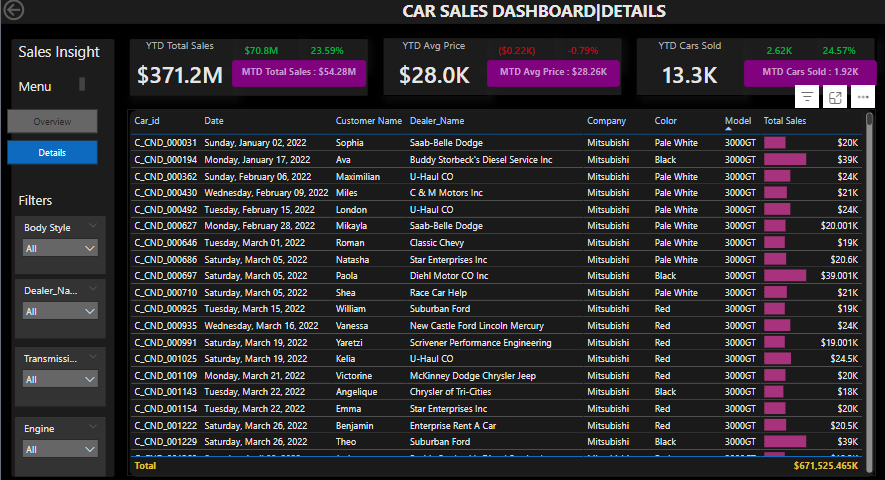

What the dashboard file says about the page in this screenshot:
{"tool":"powerbi","page":{"name":"Details","canvas":[1280,720],"ordinal":1},"visuals":[{"type":"card","title":"YTD Total Sales","fields":{"Values":["car_data.YTD, Total Sales"]},"box":[183.1,60.5,152.9,84],"z":0},{"type":"card","fields":{"Values":["car_data.Sales Difference"]},"box":[324.2,57.1,109.2,45.4],"z":1000},{"type":"card","fields":{"Values":["car_data.YOY Sales Growth"]},"box":[419.9,57.1,109.2,45.4],"z":2000},{"type":"card","fields":{"Values":["car_data.MTD KPI"]},"box":[335.4,92.5,193.7,39],"z":3000},{"type":"card","title":"YTD Avg Price","fields":{"Values":["car_data.YTD Avg Price"]},"box":[551,60.5,152.9,84],"z":4000},{"type":"card","fields":{"Values":["car_data.Avg Price Difference"]},"box":[692.1,57.1,109.2,45.4],"z":5000},{"type":"card","fields":{"Values":["car_data.YOY Avg Price Growth"]},"box":[787.8,57.1,109.2,45.4],"z":6000},{"type":"card","fields":{"Values":["car_data.MTD Avg Price KPI"]},"box":[704.1,92.5,192.3,39],"z":7000},{"type":"card","title":"YTD Cars Sold","fields":{"Values":["car_data.YTD Cars Sold"]},"box":[920.5,60.5,152.9,84],"z":8000},{"type":"card","fields":{"Values":["car_data.Cars Sold Diff"]},"box":[1073.4,57.1,109.2,45.4],"z":9000},{"type":"card","fields":{"Values":["car_data.YOY Cars Sold Growth"]},"box":[1159.1,57.1,109.2,45.4],"z":10000},{"type":"card","fields":{"Values":["car_data.MTD Cars Sold KPI"]},"box":[1075.7,92.5,192.3,39],"z":11000},{"type":"textbox","box":[497.2,0,549.3,42],"z":12000},{"type":"slicer","fields":{"Values":["car_data.Body Style"]},"box":[21.8,317.5,131,84],"z":13000},{"type":"slicer","fields":{"Values":["car_data.Dealer_Name"]},"box":[21.8,409.9,131,85.7],"z":14000},{"type":"slicer","fields":{"Values":["car_data.Transmission"]},"box":[21.8,507.3,131,85.7],"z":15000},{"type":"slicer","fields":{"Values":["car_data.Engine"]},"box":[21.8,608.1,131,85.7],"z":16000},{"type":"textbox","box":[21.8,277.2,95.7,40.3],"z":17000},{"type":"tableEx","fields":{"Values":["car_data.Car_id","car_data.Date","car_data.Customer Name","car_data.Dealer_Name","car_data.Company","car_data.Color","car_data.Model","car_data.Price ($)"]},"box":[183.1,162.9,1083.5,530.8],"z":18000},{"type":"actionButton","box":[0,0,100,40],"z":19000},{"type":"textbox","box":[21.8,60.5,142.8,52.1],"z":20000},{"type":"textbox","box":[21.8,112.5,105.8,31.9],"z":21000},{"type":"pageNavigator","box":[10.1,162.9,131,80.6],"z":22000}]}

Visuals, with their boxes on the page's 1280x720 design canvas (x1, y1, x2, y2). These are canvas units, not pixel positions in the 885x480 screenshot, which may show the page scaled, cropped or inside an application window:
"YTD Total Sales" card: pyautogui.locateOnScreen(183, 60, 336, 144)
card - car_data.Sales Difference: pyautogui.locateOnScreen(324, 57, 433, 102)
card - car_data.YOY Sales Growth: pyautogui.locateOnScreen(420, 57, 529, 102)
card - car_data.MTD KPI: pyautogui.locateOnScreen(335, 92, 529, 132)
"YTD Avg Price" card: pyautogui.locateOnScreen(551, 60, 704, 144)
card - car_data.Avg Price Difference: pyautogui.locateOnScreen(692, 57, 801, 102)
card - car_data.YOY Avg Price Growth: pyautogui.locateOnScreen(788, 57, 897, 102)
card - car_data.MTD Avg Price KPI: pyautogui.locateOnScreen(704, 92, 896, 132)
"YTD Cars Sold" card: pyautogui.locateOnScreen(920, 60, 1073, 144)
card - car_data.Cars Sold Diff: pyautogui.locateOnScreen(1073, 57, 1183, 102)
card - car_data.YOY Cars Sold Growth: pyautogui.locateOnScreen(1159, 57, 1268, 102)
card - car_data.MTD Cars Sold KPI: pyautogui.locateOnScreen(1076, 92, 1268, 132)
textbox: pyautogui.locateOnScreen(497, 0, 1046, 42)
slicer - car_data.Body Style: pyautogui.locateOnScreen(22, 318, 153, 402)
slicer - car_data.Dealer_Name: pyautogui.locateOnScreen(22, 410, 153, 496)
slicer - car_data.Transmission: pyautogui.locateOnScreen(22, 507, 153, 593)
slicer - car_data.Engine: pyautogui.locateOnScreen(22, 608, 153, 694)
textbox: pyautogui.locateOnScreen(22, 277, 118, 318)
tableEx - car_data.Car_id x car_data.Date: pyautogui.locateOnScreen(183, 163, 1267, 694)
actionButton: pyautogui.locateOnScreen(0, 0, 100, 40)
textbox: pyautogui.locateOnScreen(22, 60, 165, 113)
textbox: pyautogui.locateOnScreen(22, 112, 128, 144)
pageNavigator: pyautogui.locateOnScreen(10, 163, 141, 244)
